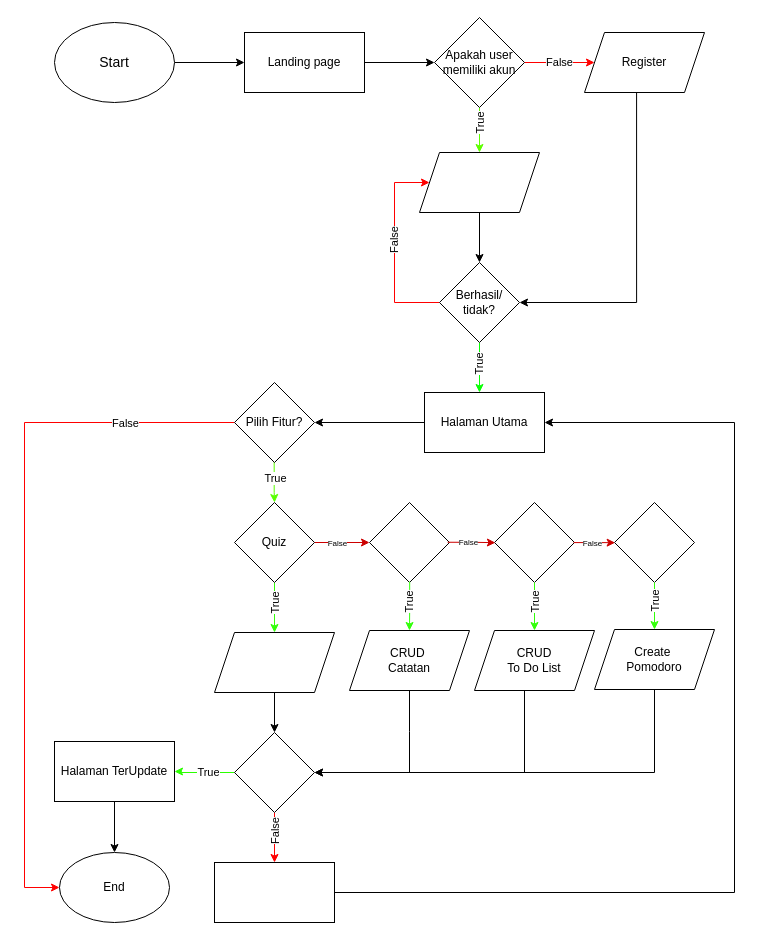
Some shapes in this 760 by 940 pixel diagram are drawn without their labels. The centre of each missing label's shape, as x and y in pixels:
Catatan: the point at 409,542
CRUD Quiz: the point at 274,662
Login: the point at 479,182
Memunculkan Alert: the point at 274,892
Pomodoro: the point at 654,542
To Do List: the point at 534,542
Validasi: the point at 274,772
